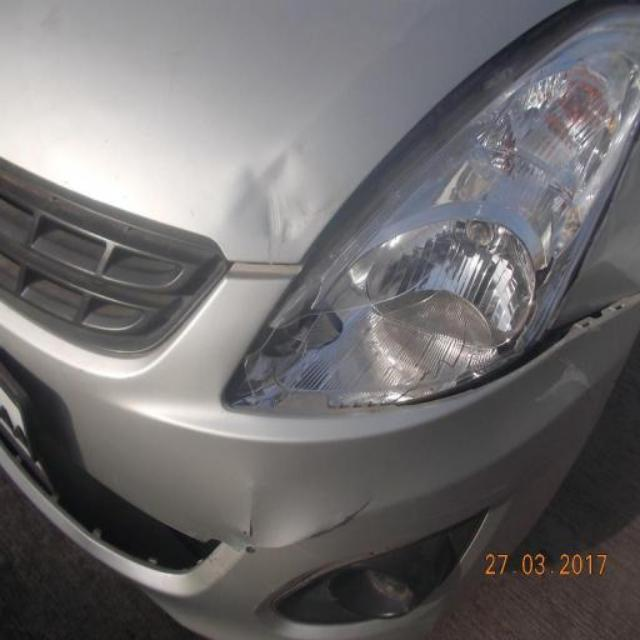crack: (421, 222, 640, 420)
dent: (226, 136, 315, 260)
lamp broken: (228, 209, 550, 424)
scratch: (200, 459, 379, 568)
